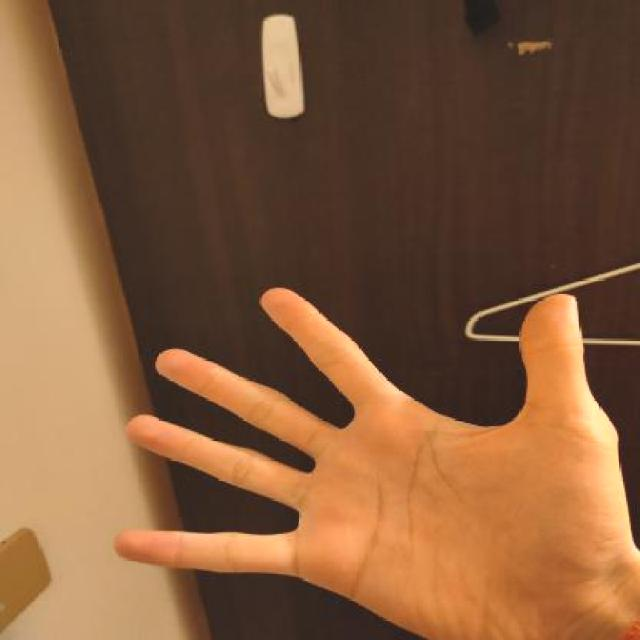no_glove: (97, 272, 640, 638)
